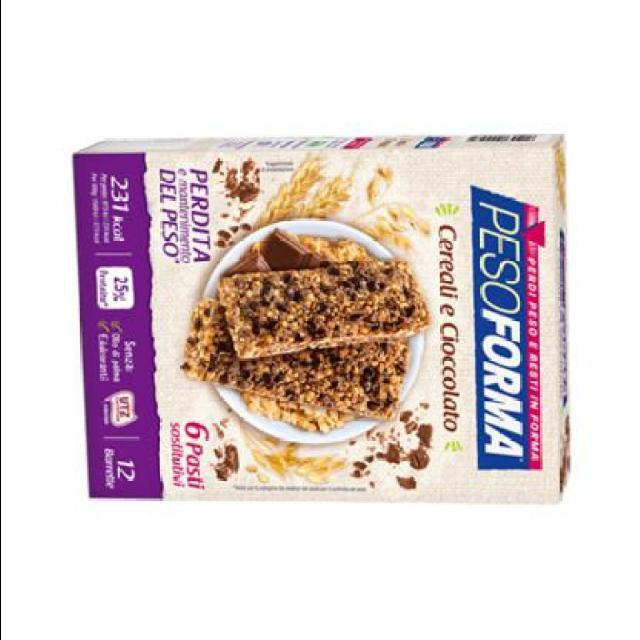Cereal bar: (63, 120, 571, 512)
